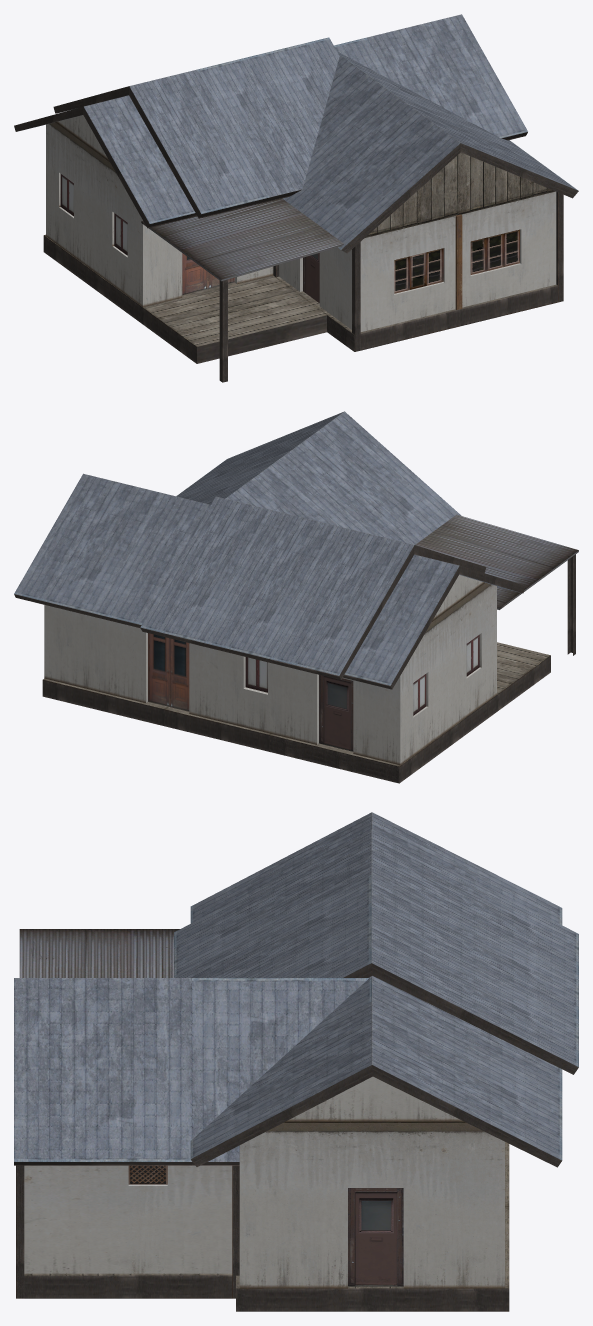
Rendered from house2.glb.
3 renders of one model, top to bottom at view 1: azimuth 30°, elevation 25°; view 2: azimuth 150°, elevation 25°; view 3: azimuth 270°, elevation 25°, orthographic. The views are drawn at different scales.
Visible parts, largest first — view 1: Object013_Material #15_0; view 2: Object013_Material #15_0; view 3: Object013_Material #15_0.
Part boxes in pixels (x1=…): Object013_Material #15_0: x1=14, y1=14, x2=578, y2=382; Object013_Material #15_0: x1=14, y1=411, x2=578, y2=783; Object013_Material #15_0: x1=14, y1=812, x2=578, y2=1311.
Size of the model in its own units: 12.74 by 6.26 by 12.04.
Materials: 1 (1 with a texture image).
